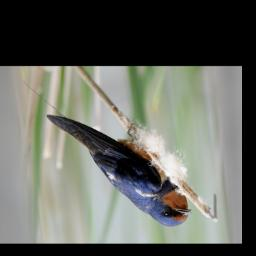Swallow: (46, 114, 193, 228)
